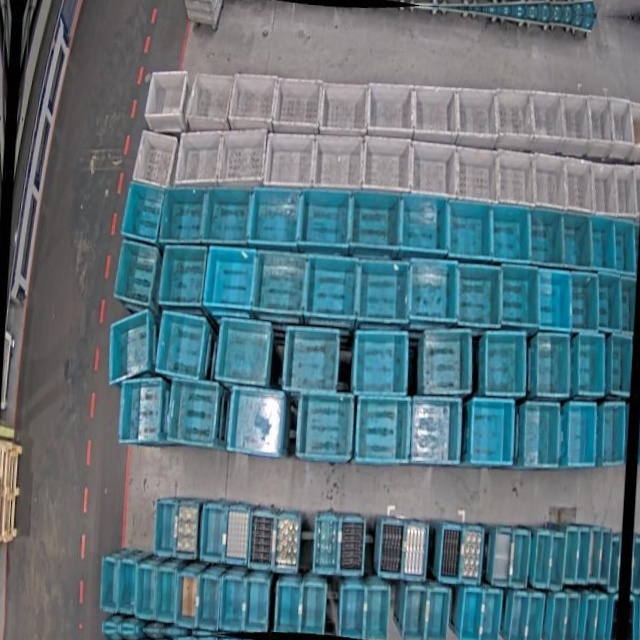Box: (212, 316, 274, 388), (351, 326, 412, 396), (354, 393, 412, 465), (418, 326, 474, 400), (225, 387, 285, 456), (281, 325, 340, 395), (295, 392, 354, 461), (167, 374, 222, 448), (153, 311, 209, 382), (106, 306, 153, 390), (115, 375, 168, 447), (155, 240, 208, 312), (252, 249, 308, 317), (201, 245, 258, 311), (355, 259, 413, 323), (348, 188, 403, 255), (409, 396, 462, 465), (303, 256, 360, 320), (297, 186, 353, 250), (409, 257, 460, 325), (156, 184, 209, 249), (172, 129, 225, 194), (112, 239, 161, 309), (480, 329, 529, 398), (249, 185, 302, 248), (453, 262, 503, 328), (217, 126, 267, 192), (469, 397, 516, 467), (398, 194, 450, 257), (202, 185, 254, 248), (227, 72, 279, 133), (184, 69, 234, 132), (263, 133, 317, 191), (362, 134, 414, 194), (119, 181, 166, 246), (447, 197, 495, 260), (497, 264, 542, 331), (272, 75, 322, 135), (130, 129, 179, 190), (318, 77, 369, 135), (314, 132, 364, 190), (411, 83, 459, 143), (411, 141, 458, 201), (520, 403, 561, 470), (367, 79, 416, 135), (455, 86, 500, 146), (494, 87, 536, 151), (145, 70, 187, 133), (532, 331, 572, 397), (455, 145, 499, 203), (493, 152, 537, 207), (536, 270, 574, 333), (529, 154, 571, 209), (490, 205, 531, 261), (573, 332, 607, 398), (527, 208, 566, 265), (564, 402, 597, 467), (559, 95, 593, 157), (531, 91, 565, 153), (598, 401, 628, 469), (560, 211, 595, 268), (563, 158, 598, 215), (587, 95, 618, 158), (272, 510, 301, 574), (569, 272, 601, 330), (588, 212, 620, 270), (199, 501, 227, 566), (174, 494, 202, 559), (401, 522, 430, 582), (595, 274, 625, 332), (608, 98, 636, 160), (377, 517, 406, 576), (338, 514, 365, 577), (242, 577, 271, 635), (438, 521, 465, 583), (312, 514, 339, 575), (610, 163, 639, 219), (153, 498, 179, 560), (608, 332, 633, 396), (460, 524, 486, 585), (247, 510, 273, 571), (224, 504, 250, 565), (401, 586, 430, 640), (298, 582, 328, 634), (590, 162, 620, 214), (219, 575, 245, 634), (507, 528, 531, 591), (339, 583, 366, 638), (364, 586, 391, 640), (174, 573, 200, 628), (196, 575, 221, 631), (489, 526, 512, 586), (613, 220, 638, 275), (425, 589, 451, 640), (275, 581, 300, 634), (154, 568, 178, 623), (460, 589, 485, 640), (546, 529, 566, 592), (479, 589, 503, 640), (97, 556, 118, 613), (561, 524, 580, 585), (117, 558, 138, 613), (135, 565, 156, 619), (618, 277, 637, 335), (523, 593, 546, 640), (532, 531, 550, 589), (605, 532, 622, 593), (509, 591, 530, 640), (585, 525, 601, 586), (549, 592, 569, 640), (561, 593, 581, 640), (575, 525, 590, 586), (596, 528, 611, 581), (581, 595, 598, 640), (592, 594, 608, 640), (628, 102, 640, 163), (607, 594, 619, 640)
